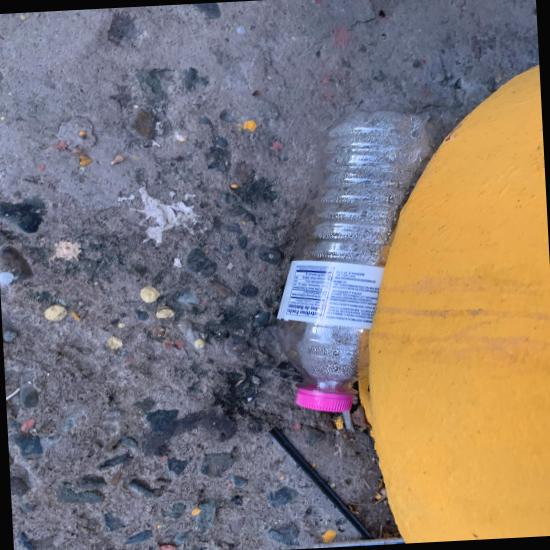Cigarette: (356, 154, 362, 157)
Clear plastic bottle: (200, 117, 244, 131), (426, 104, 457, 113)
Disposable plastic cup: (361, 110, 380, 118)
Drink can: (96, 134, 124, 140), (135, 131, 151, 136)
Glass bottle: (499, 103, 510, 107)
Plastic lid: (379, 110, 387, 118)
Plastic straw: (368, 115, 393, 118)
